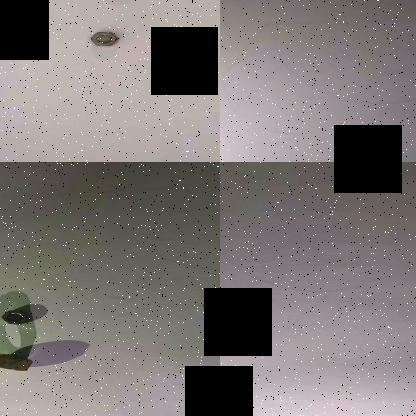NUTS: (0, 345, 38, 375), (0, 298, 37, 327), (82, 27, 122, 48)
